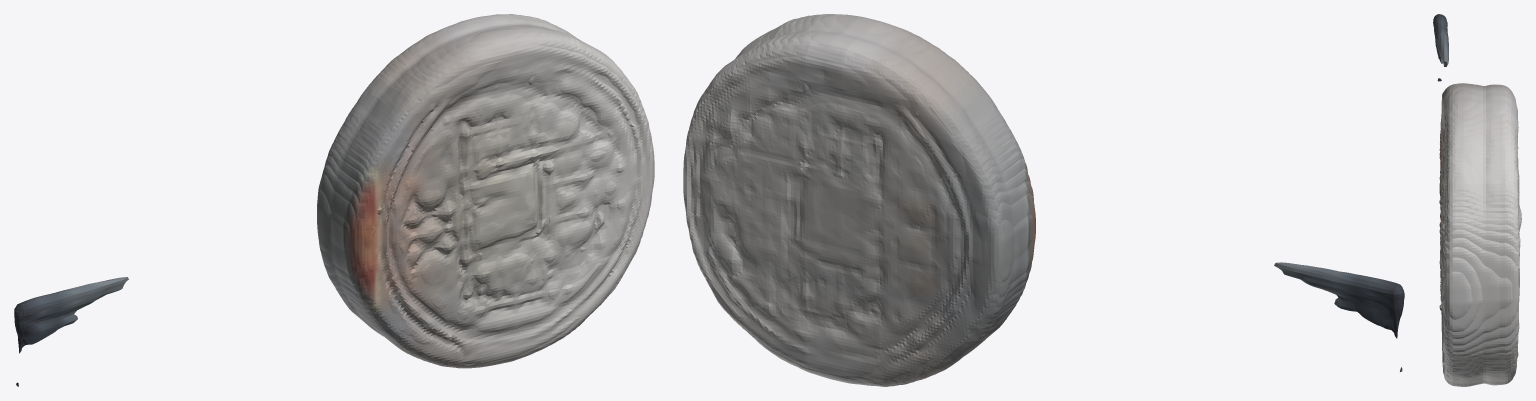
3 views of the same model, side by side, from view 1: azimuth 30°, elevation 25°; view 2: azimuth 150°, elevation 25°; view 3: azimuth 270°, elevation 25° (orthographic). The views are drawn at different scales.
Parts seen in each view (by area): view 1: geometry_0; view 2: geometry_0; view 3: geometry_0.
Boxes of the visible parts, box(x1,y1,x2,y2) form: geometry_0: box(14, 14, 654, 386); geometry_0: box(683, 14, 1404, 386); geometry_0: box(1433, 14, 1521, 386).
Bounding box in the file's own units: 1.03 × 0.4954 × 0.1451.
